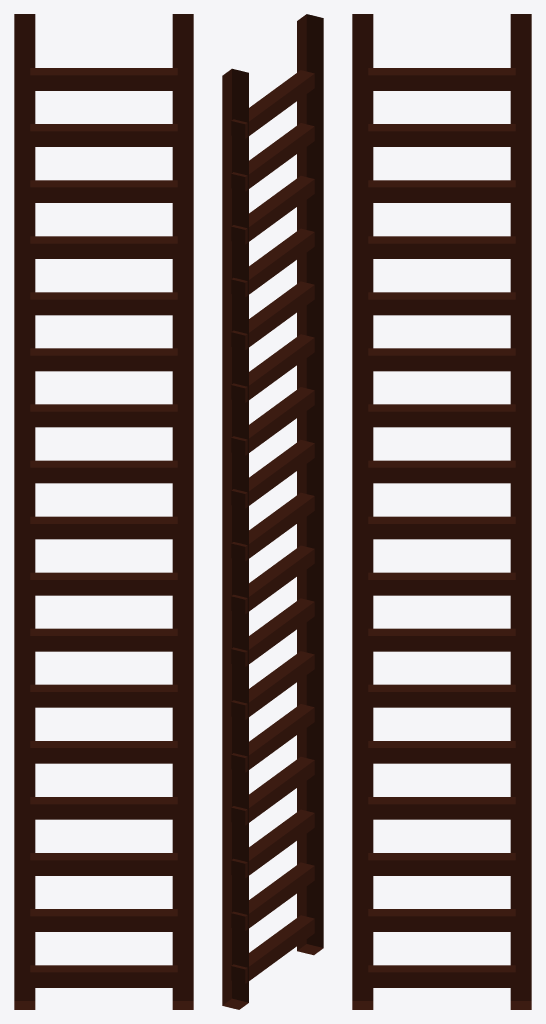
File: ladder.fbx
The picture shows the model from 3 angles, left to right: view 1: azimuth 90°, elevation 25°; view 2: azimuth 150°, elevation 25°; view 3: azimuth 270°, elevation 25°; orthographic projection. The views are drawn at different scales.
Visible parts, largest first — view 1: Cube.002; view 2: Cube.002; view 3: Cube.002.
Boxes of the visible parts, box(x1,y1,x2,y2) form: Cube.002: box(14, 14, 193, 1009); Cube.002: box(222, 14, 323, 1009); Cube.002: box(352, 14, 531, 1009).
Size of the model in its own units: 200 by 10406 by 1715.
